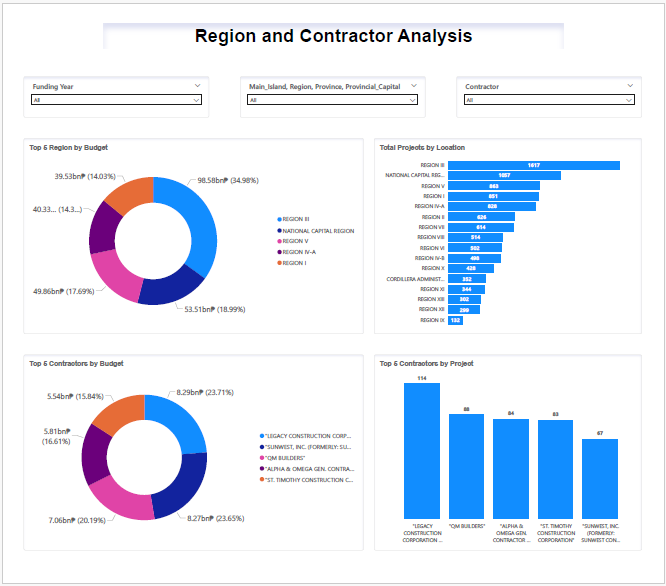

The page's visual inventory and layout, read from the dashboard file:
{"tool":"powerbi","page":{"name":"Regional, Contractor Analysis","canvas":[1490,1300],"ordinal":1},"visuals":[{"type":"textbox","box":[210,20,1072,60],"z":4000},{"type":"columnChart","title":"Top 5 Contractors by Project","fields":{"Category":["dim_contractor.Contractor"],"Y":["Calculations.Total Projects"]},"box":[840,792,624,456],"z":7000},{"type":"donutChart","title":"Top 5 Region by Budget","fields":{"Category":["dim_location.Region"],"Y":["Calculations.Total Approved Budget"]},"box":[24,288,792,456],"z":15000},{"type":"clusteredBarChart","title":"Total Projects by Location","fields":{"Category":["dim_location.Main_Island Hierarchy.Main_Island","dim_location.Main_Island Hierarchy.Region","dim_location.Main_Island Hierarchy.Province","dim_location.Main_Island Hierarchy.Provincial_Capital"],"Y":["Calculations.Total Projects"]},"box":[840,288,624,456],"z":16000},{"type":"bookmarkNavigator","box":[1200,830,238,38],"z":17000},{"type":"bookmarkNavigator","box":[1224,696,240,48],"z":18000},{"type":"donutChart","title":"Top 5 Contractors by Budget","fields":{"Category":["dim_contractor.Contractor"],"Y":["Calculations.Total Approved Budget"]},"box":[24,792,792,456],"z":18001},{"type":"slicer","fields":{"Values":["Dim_Date_Funding.Year"]},"box":[24,144,432,96],"z":18002},{"type":"slicer","fields":{"Values":["dim_location.Main_Island Hierarchy.Main_Island","dim_location.Main_Island Hierarchy.Region","dim_location.Main_Island Hierarchy.Province","dim_location.Main_Island Hierarchy.Provincial_Capital"]},"box":[528,144,432,96],"z":18003},{"type":"slicer","fields":{"Values":["dim_contractor.Contractor"]},"box":[1032,144,432,96],"z":18004}]}

Visuals, with their boxes in screenshot pixels (x1, y1, x2, y2), scaled from the page's 1490x1300 canvas onto the 666x586 screenshot:
textbox: 94/9/573/36
"Top 5 Contractors by Project" columnChart: 375/357/654/563
"Top 5 Region by Budget" donutChart: 11/130/365/335
"Total Projects by Location" clusteredBarChart: 375/130/654/335
bookmarkNavigator: 536/374/643/391
bookmarkNavigator: 547/314/654/335
"Top 5 Contractors by Budget" donutChart: 11/357/365/563
slicer - Dim_Date_Funding.Year: 11/65/204/108
slicer - dim_location.Main_Island Hierarchy.Main_Island x dim_location.Main_Island Hierarchy.Region: 236/65/429/108
slicer - dim_contractor.Contractor: 461/65/654/108
